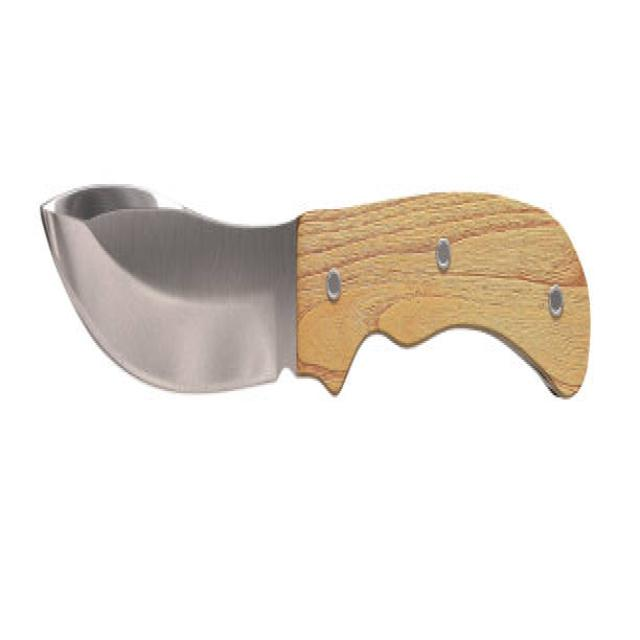knife: (40, 176, 593, 418)
